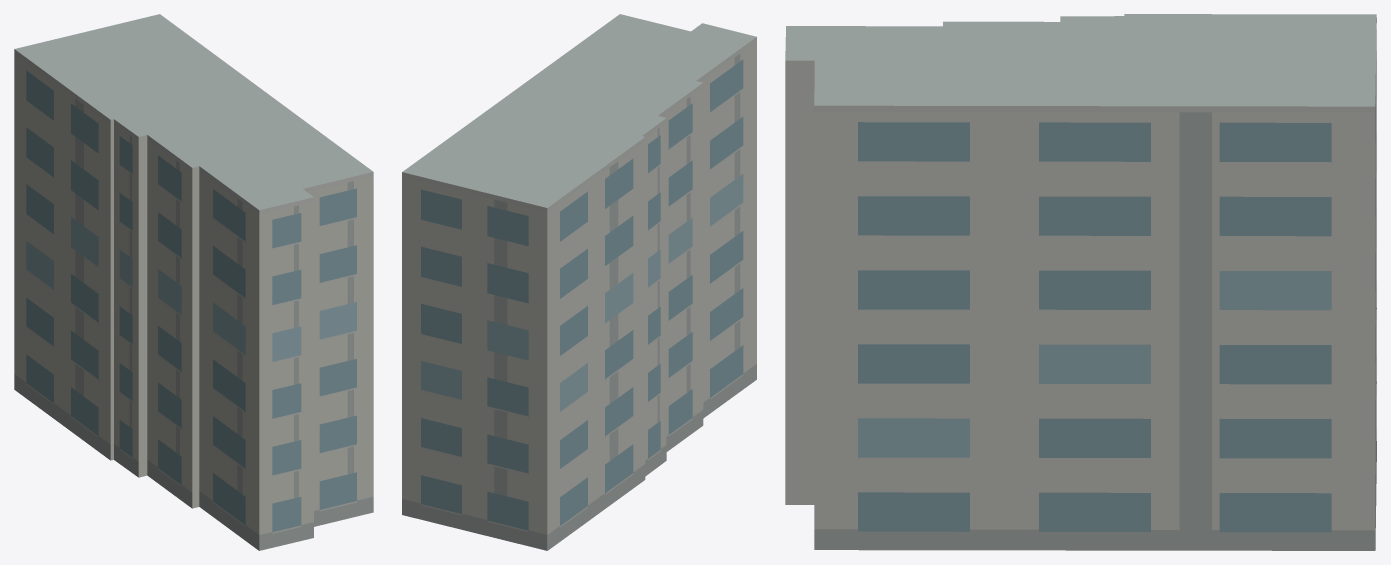
File: survey-upis-33003614.glb
The picture shows the model from 3 angles, left to right: view 1: azimuth 30°, elevation 25°; view 2: azimuth 150°, elevation 25°; view 3: azimuth 270°, elevation 25°; orthographic projection. The views are drawn at different scales.
Parts seen in each view (by area): view 1: survey-upis-33003614.tmp; view 2: survey-upis-33003614.tmp; view 3: survey-upis-33003614.tmp.
Boxes of the visible parts, x1,y1,x2,y2 form: survey-upis-33003614.tmp: (14,14,373,550); survey-upis-33003614.tmp: (402,14,756,550); survey-upis-33003614.tmp: (785,14,1376,550).
Size of the model in its own units: 8.19 by 18.3 by 22.09.
